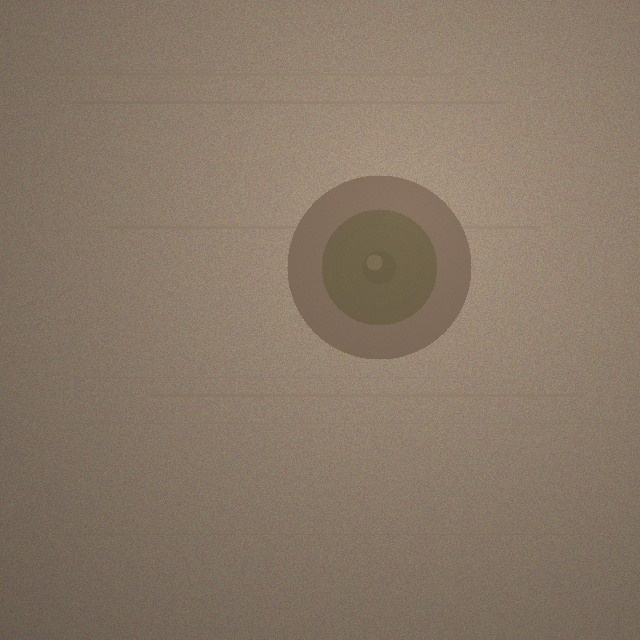good: (287, 175, 471, 359)
